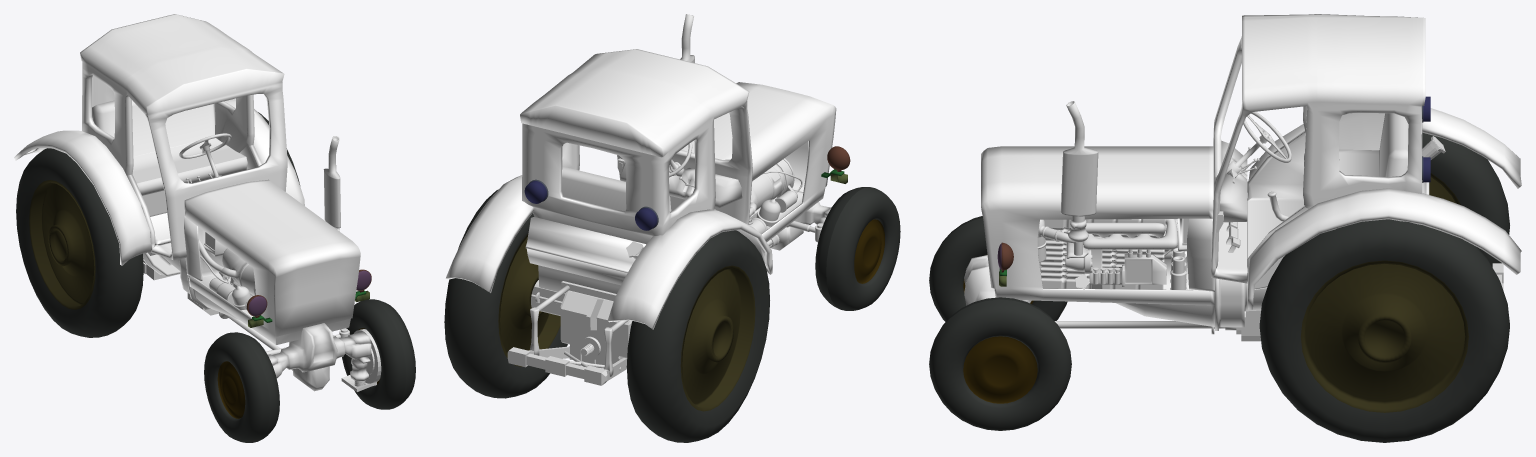
The picture shows the model from 3 angles, left to right: view 1: azimuth 30°, elevation 25°; view 2: azimuth 150°, elevation 25°; view 3: azimuth 270°, elevation 25°; orthographic projection. The views are drawn at different scales.
Parts seen in each view (by area): view 1: Cube, Cube.001, Cylinder, Cylinder.001, Cube.014, Cube.002, Cube.003, Cylinder.011, Cylinder.004, Cylinder.002, Cylinder.028, Cube.012 (+2 smaller); view 2: Cube, Cylinder, Cube.001, Cylinder.001, Cube.025, Cylinder.040, Cube.023, Cube.014, Cube.015, Cylinder.004, Cylinder.039, Sphere.003 (+6 smaller); view 3: Cylinder, Cube, Cube.001, Cylinder.001, Cube.003, Cylinder.011, Cube.005, Cube.014, Cube.009, Cube.015, Cube.007, Cylinder.007 (+5 smaller).
Boxes of the visible parts, bbox=[...] form: Cube: bbox=[14, 14, 304, 265]; Cube.001: bbox=[184, 179, 360, 344]; Cylinder: bbox=[16, 112, 300, 337]; Cylinder.001: bbox=[204, 299, 415, 442]; Cube.014: bbox=[92, 100, 247, 216]; Cube.002: bbox=[268, 323, 371, 381]; Cube.003: bbox=[143, 253, 238, 319]; Cylinder.011: bbox=[323, 136, 340, 231]; Cylinder.004: bbox=[221, 248, 255, 295]; Cylinder.002: bbox=[341, 329, 381, 391]; Cylinder.028: bbox=[179, 133, 231, 177]; Cube.012: bbox=[291, 366, 329, 391]; Cube: bbox=[446, 49, 772, 329]; Cylinder: bbox=[444, 189, 769, 442]; Cube.001: bbox=[681, 82, 836, 242]; Cylinder.001: bbox=[815, 187, 900, 310]; Cube.025: bbox=[525, 217, 645, 285]; Cylinder.040: bbox=[531, 280, 632, 364]; Cube.023: bbox=[507, 346, 626, 385]; Cube.014: bbox=[562, 166, 671, 211]; Cube.015: bbox=[620, 162, 742, 207]; Cylinder.004: bbox=[750, 158, 794, 214]; Cylinder.039: bbox=[530, 285, 628, 376]; Sphere.003: bbox=[821, 146, 850, 183]; Cylinder: bbox=[1259, 132, 1509, 442]; Cube: bbox=[1211, 14, 1521, 309]; Cube.001: bbox=[981, 146, 1214, 305]; Cylinder.001: bbox=[929, 216, 1071, 430]; Cube.003: bbox=[1116, 256, 1266, 330]; Cylinder.011: bbox=[1060, 101, 1098, 255]; Cube.005: bbox=[1040, 219, 1165, 289]; Cube.014: bbox=[1304, 113, 1408, 205]; Cube.009: bbox=[1089, 249, 1166, 288]; Cube.015: bbox=[1220, 140, 1247, 222]; Cube.007: bbox=[1083, 219, 1177, 249]; Cylinder.007: bbox=[1054, 321, 1236, 334].
Bounding box in the file's own units: 382 × 486 × 743.
